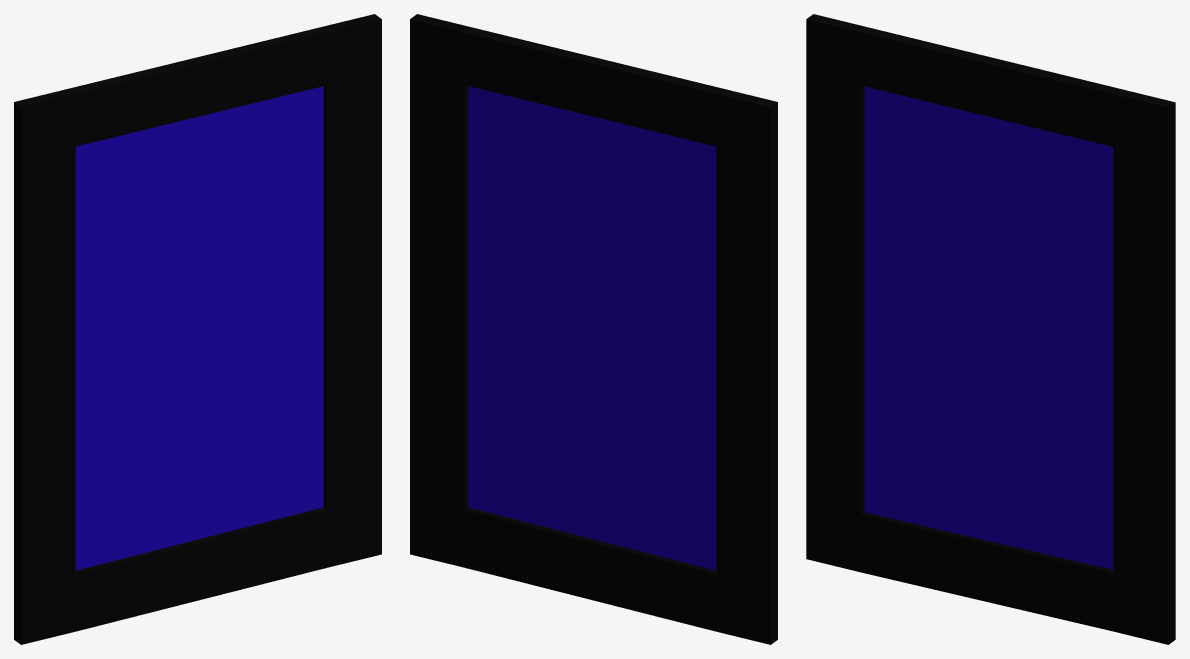
The model's file is window.fbx.
3 renders of one model, left to right at view 1: azimuth 30°, elevation 25°; view 2: azimuth 150°, elevation 25°; view 3: azimuth 330°, elevation 25°, orthographic.
Parts seen in each view (by area): view 1: Cube; view 2: Cube; view 3: Cube.
Part boxes in pixels (x1=…): Cube: x1=14, y1=14, x2=381, y2=644; Cube: x1=410, y1=14, x2=777, y2=644; Cube: x1=806, y1=14, x2=1175, y2=644.
Size of the model in its own units: 494 by 703 by 16.83.
